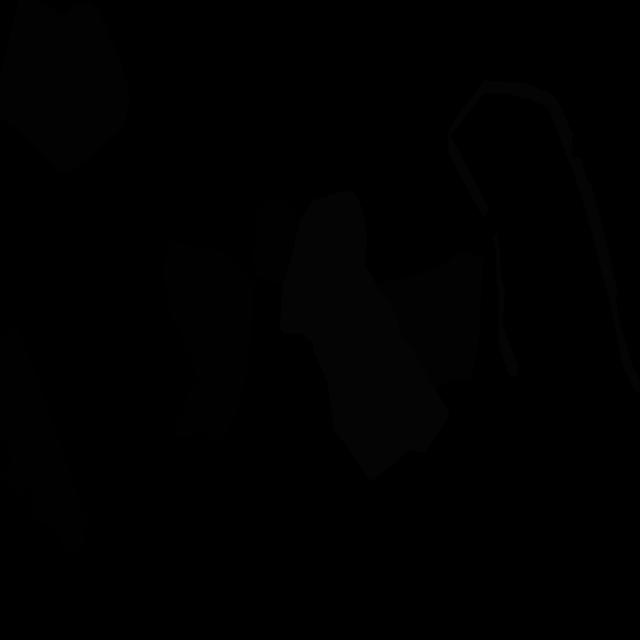cardboard: (0, 0, 130, 175), (377, 252, 483, 387)
rigid_plastic: (0, 327, 90, 555), (162, 240, 254, 443), (252, 200, 298, 285)
soft_plastic: (448, 80, 640, 396), (280, 190, 449, 482), (494, 232, 519, 378)
